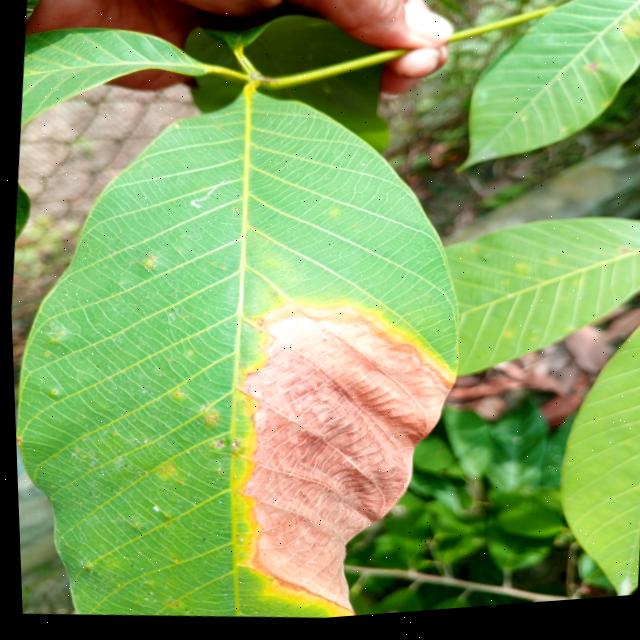Leaf-Blight: (217, 296, 465, 628)
